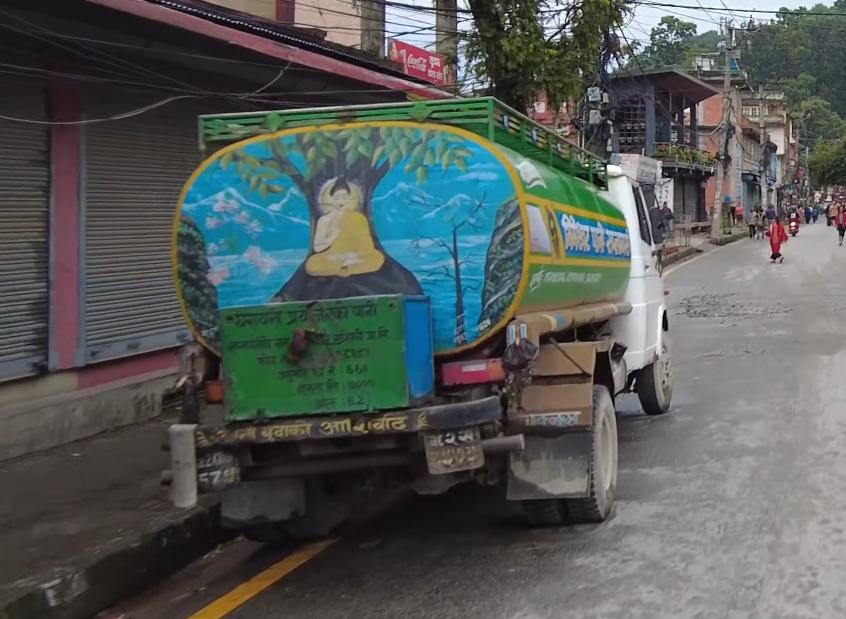mini_truck: (167, 88, 681, 557)
